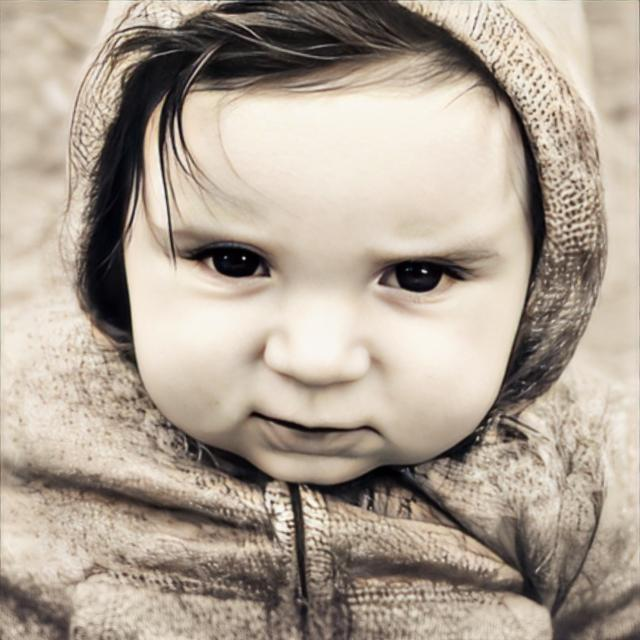anger: (123, 82, 530, 487)
